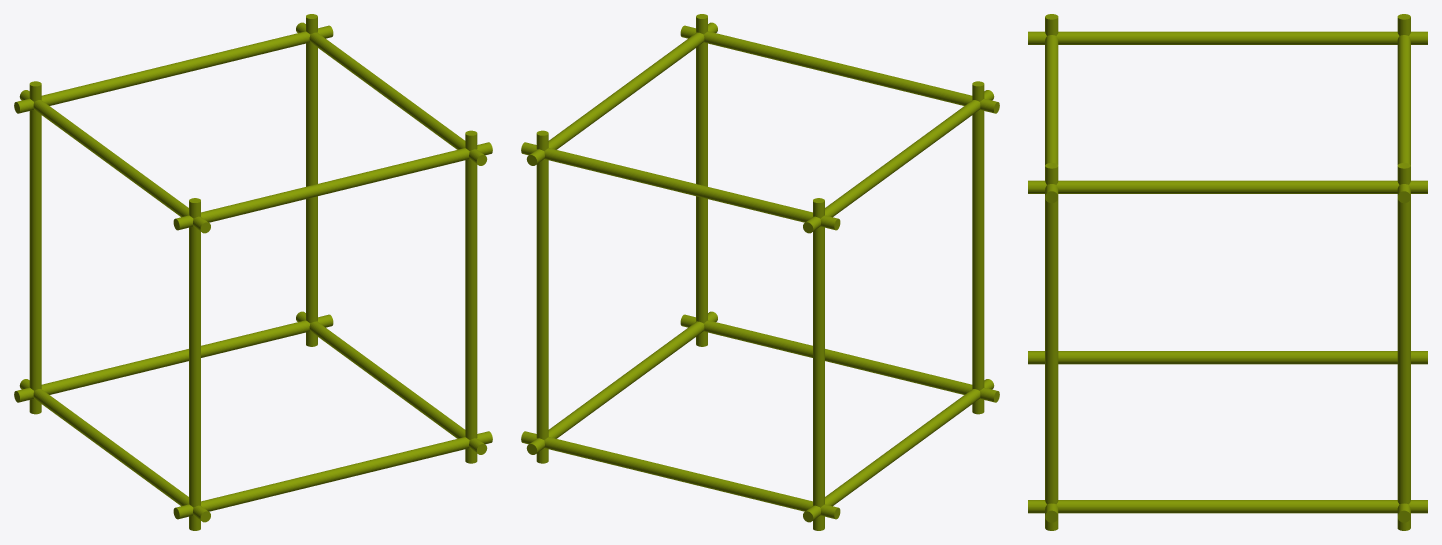
Rendered from fluid_border.obj.
The picture shows the model from 3 angles, left to right: view 1: azimuth 30°, elevation 25°; view 2: azimuth 150°, elevation 25°; view 3: azimuth 270°, elevation 25°; orthographic projection. The views are drawn at different scales.
Size of the model in its own units: 2.27 by 2.27 by 2.27.
